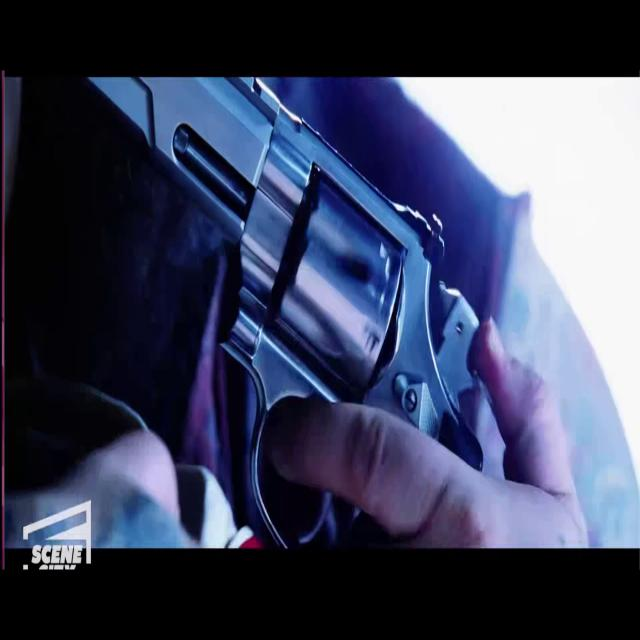weapons: (84, 76, 501, 545)
